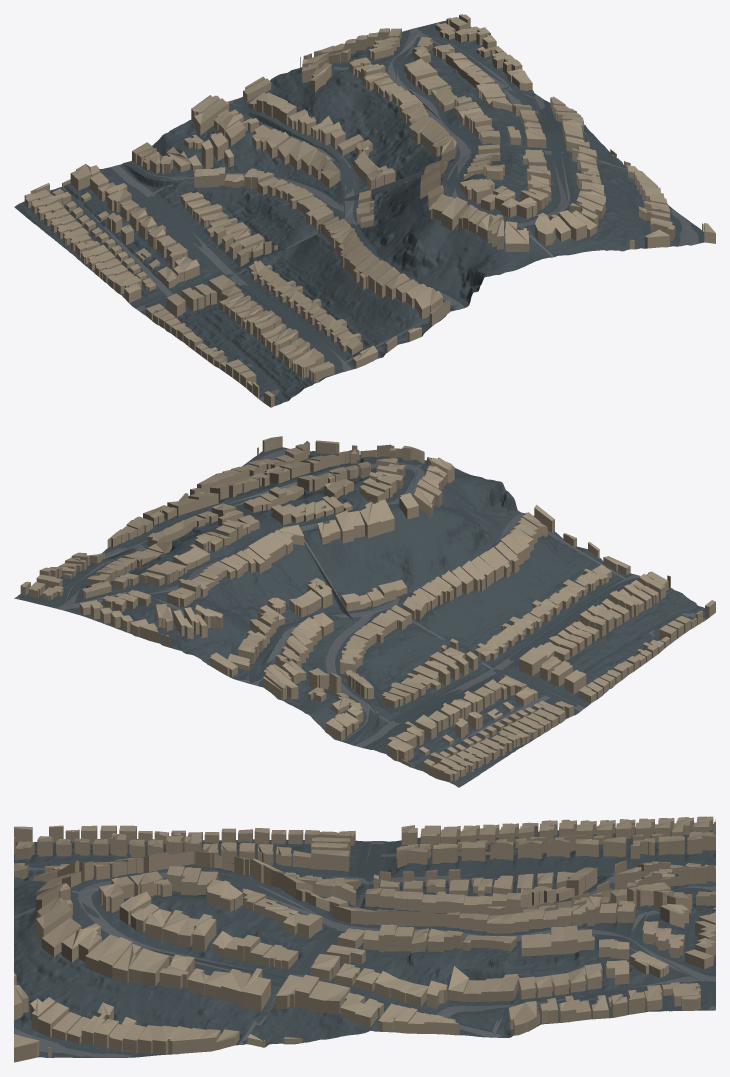
File: epsg26910-1423-10881.lod0.glb
The picture shows the model from 3 angles, top to bottom: view 1: azimuth 30°, elevation 25°; view 2: azimuth 150°, elevation 25°; view 3: azimuth 270°, elevation 25°; orthographic projection. The views are drawn at different scales.
Visible parts, largest first — view 1: epsg26910-1423-10881-lod0; view 2: epsg26910-1423-10881-lod0; view 3: epsg26910-1423-10881-lod0.
Part boxes in pixels (<box>): epsg26910-1423-10881-lod0: <box>14,14,715,407</box>; epsg26910-1423-10881-lod0: <box>14,436,715,787</box>; epsg26910-1423-10881-lod0: <box>14,816,715,1062</box>.
Size of the model in its own units: 384 by 93.7 by 384.
